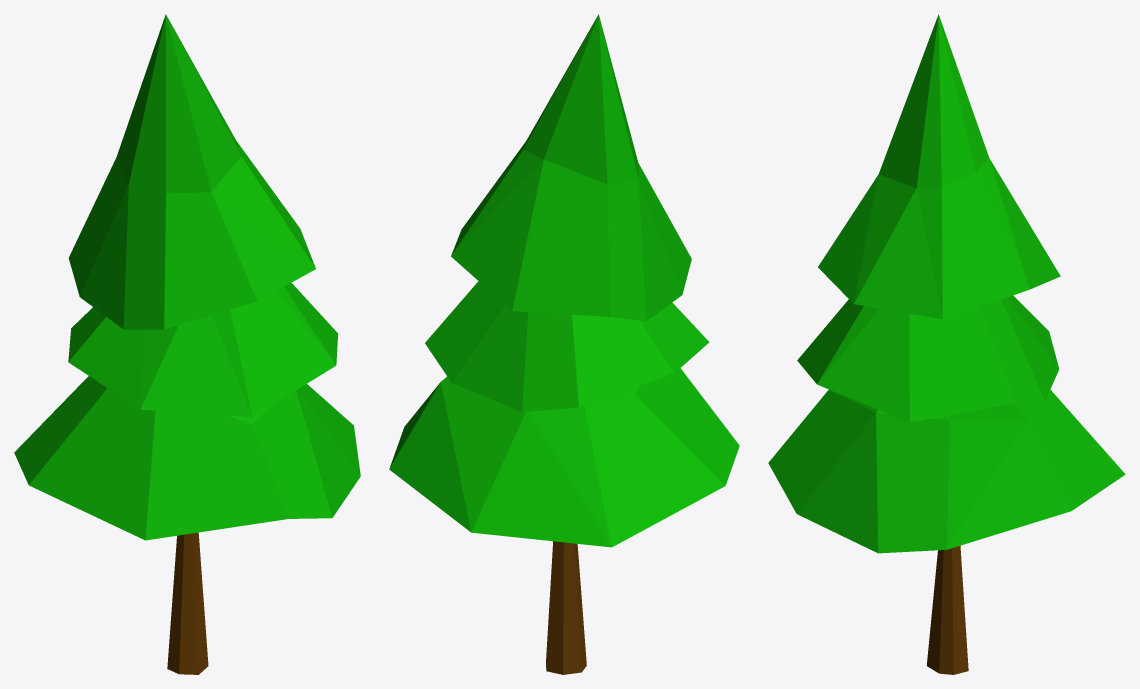
The model's file is SM_Tree_03.fbx.
3 views of the same model, side by side, from view 1: azimuth 30°, elevation 25°; view 2: azimuth 150°, elevation 25°; view 3: azimuth 270°, elevation 25° (orthographic). The views are drawn at different scales.
Parts seen in each view (by area): view 1: SM_Tree_03; view 2: SM_Tree_03; view 3: SM_Tree_03.
Part boxes in pixels (box(x1,y1,x2,y2)): SM_Tree_03: box(14, 14, 360, 674); SM_Tree_03: box(389, 14, 739, 674); SM_Tree_03: box(768, 14, 1125, 674).
Bounding box in the file's own units: 348 × 679 × 344.
